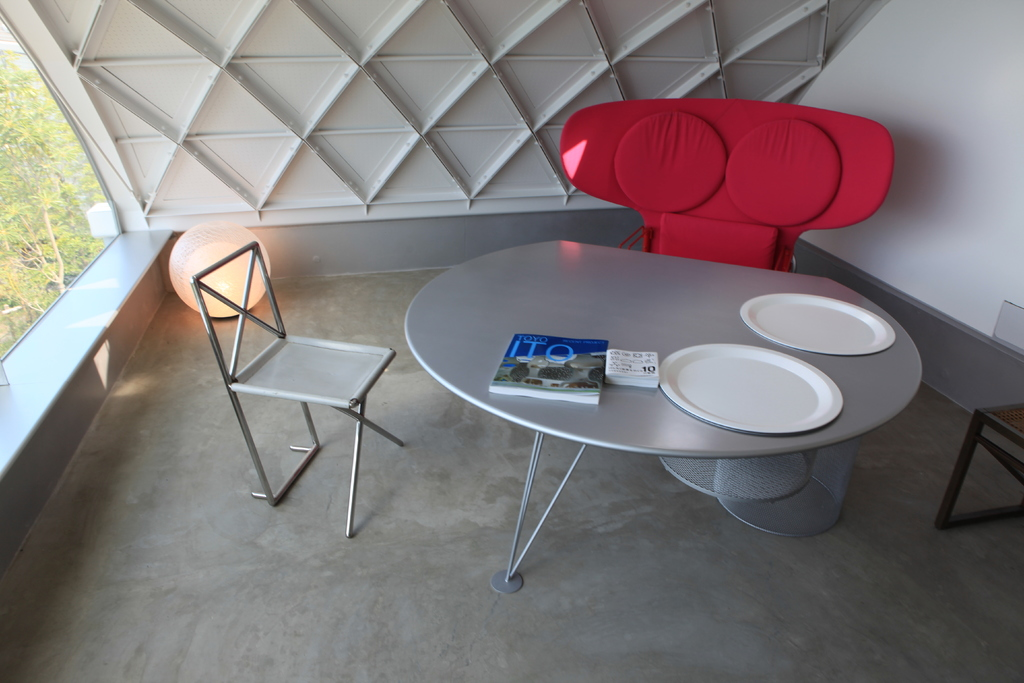plate: (643, 326, 846, 449), (738, 294, 898, 353)
